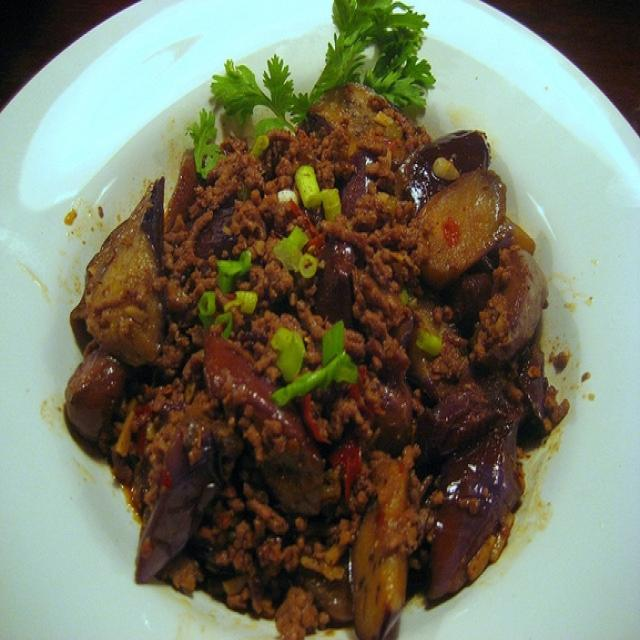鸡蛋料理: (63, 40, 588, 604)
